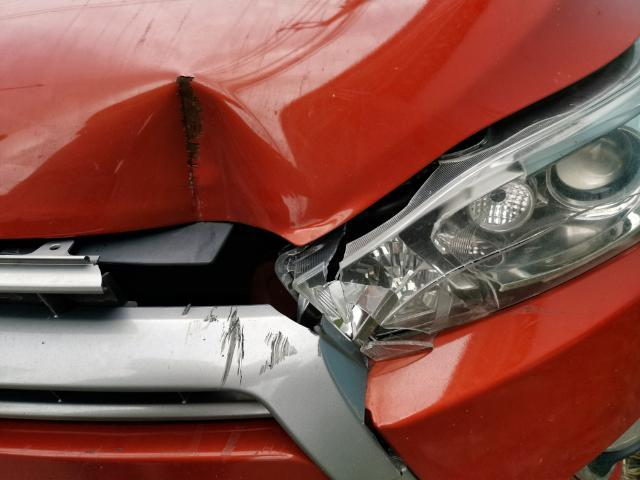dent: (10, 73, 312, 240)
lamp broken: (277, 45, 640, 359)
scratch: (202, 305, 300, 387)
